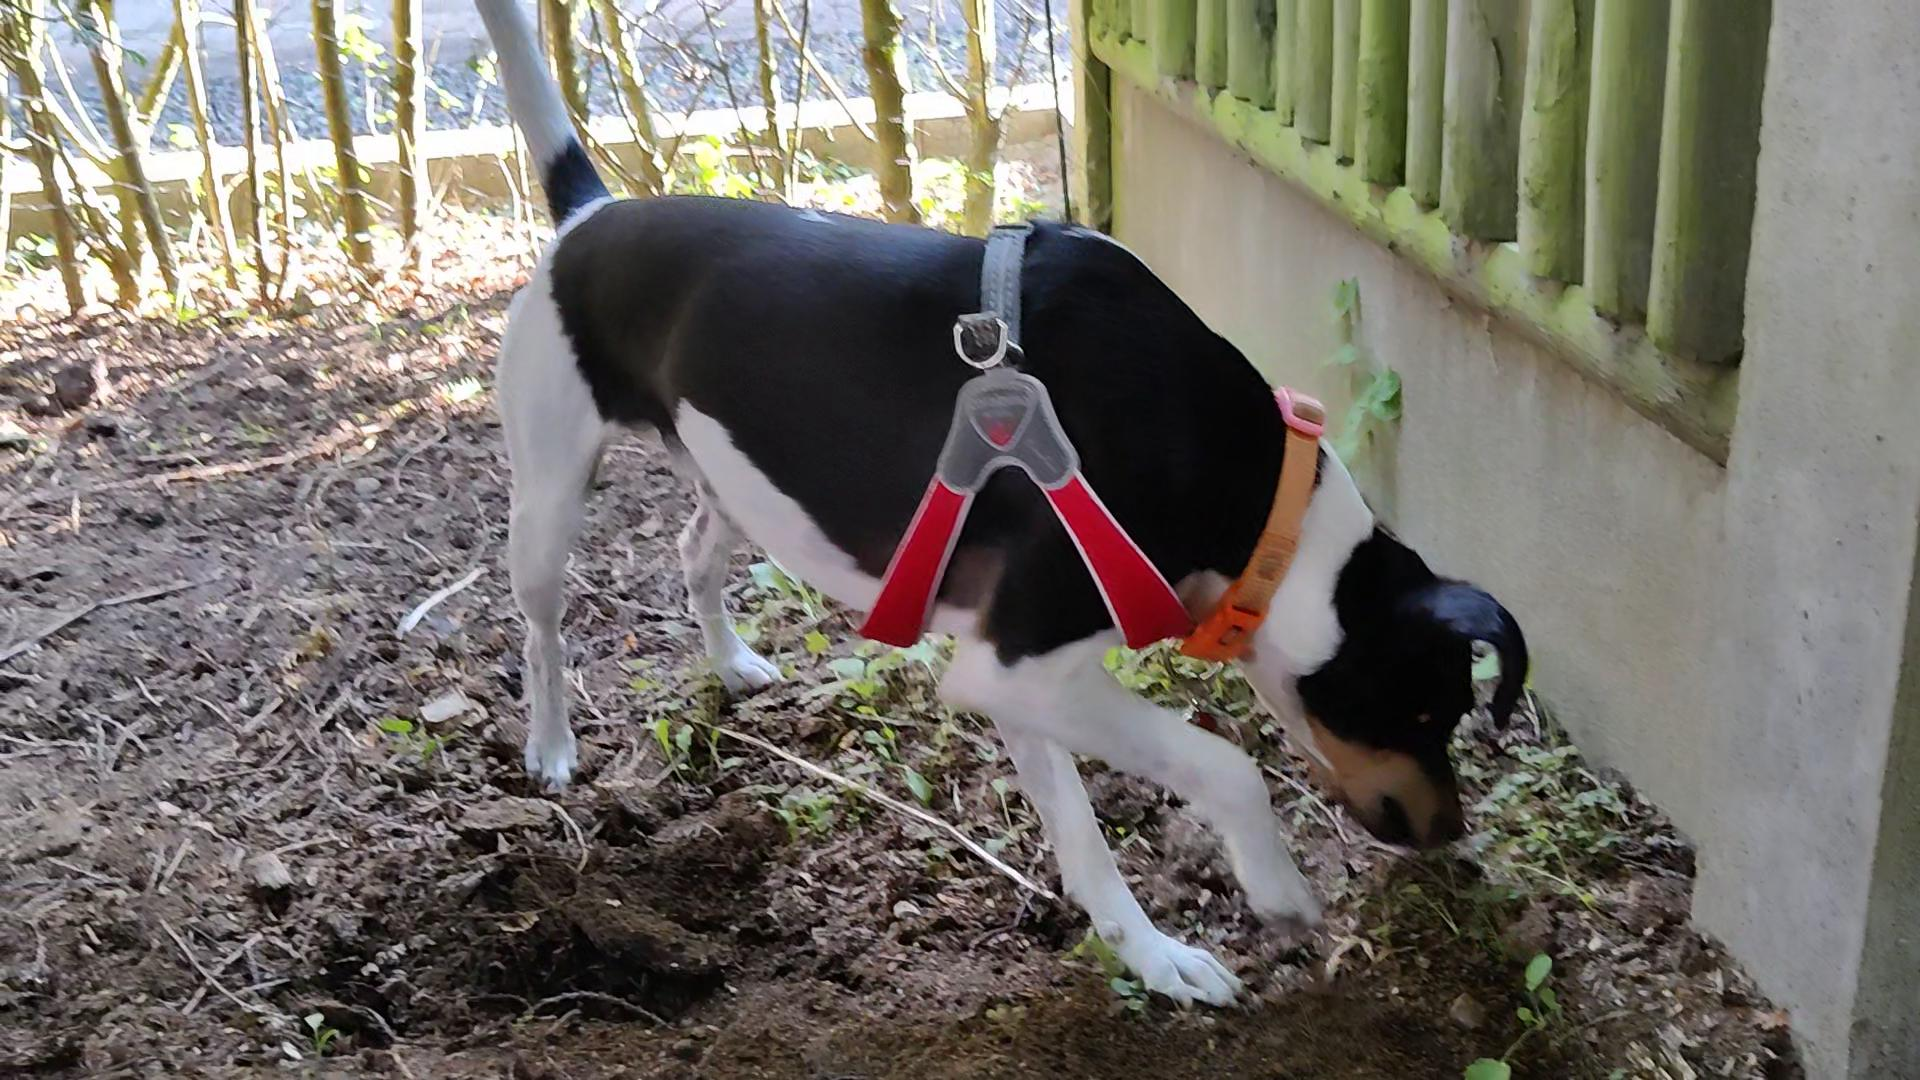Dog: (469, 0, 1531, 1017)
